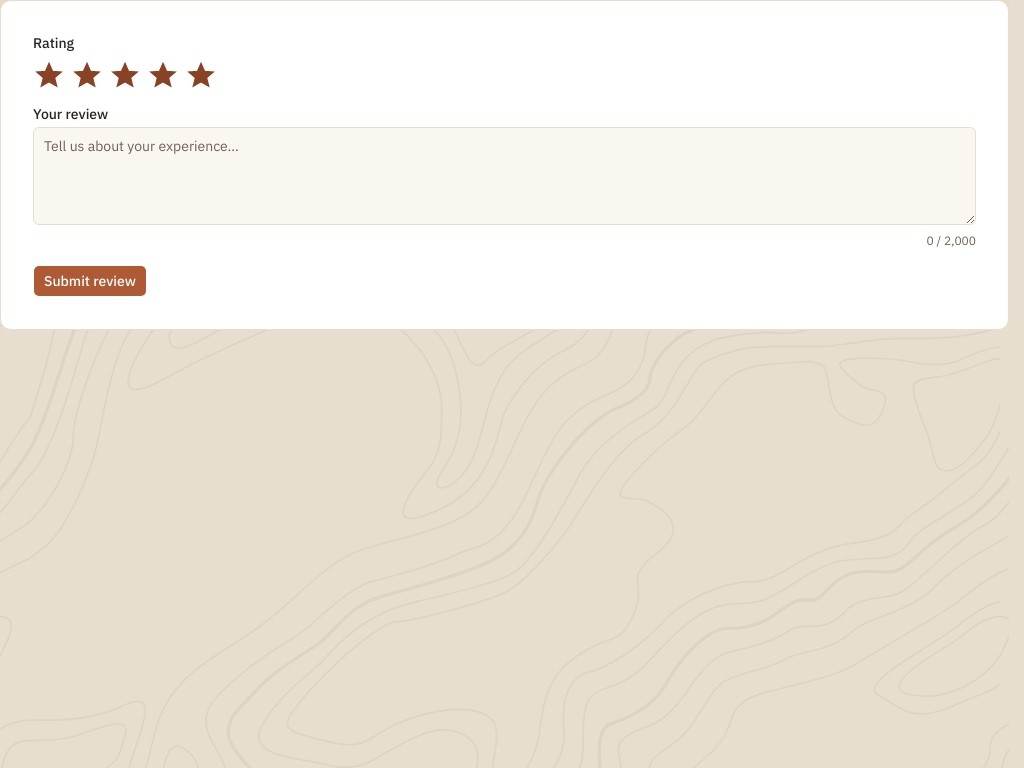
Test: ReviewForm › preserves body text and shows the error on server failure
The width and height of the screenshot is (1024, 768).
In the text box labelled "Your review": (504, 176) 33,127 -> 976,225, type "Great walk today"
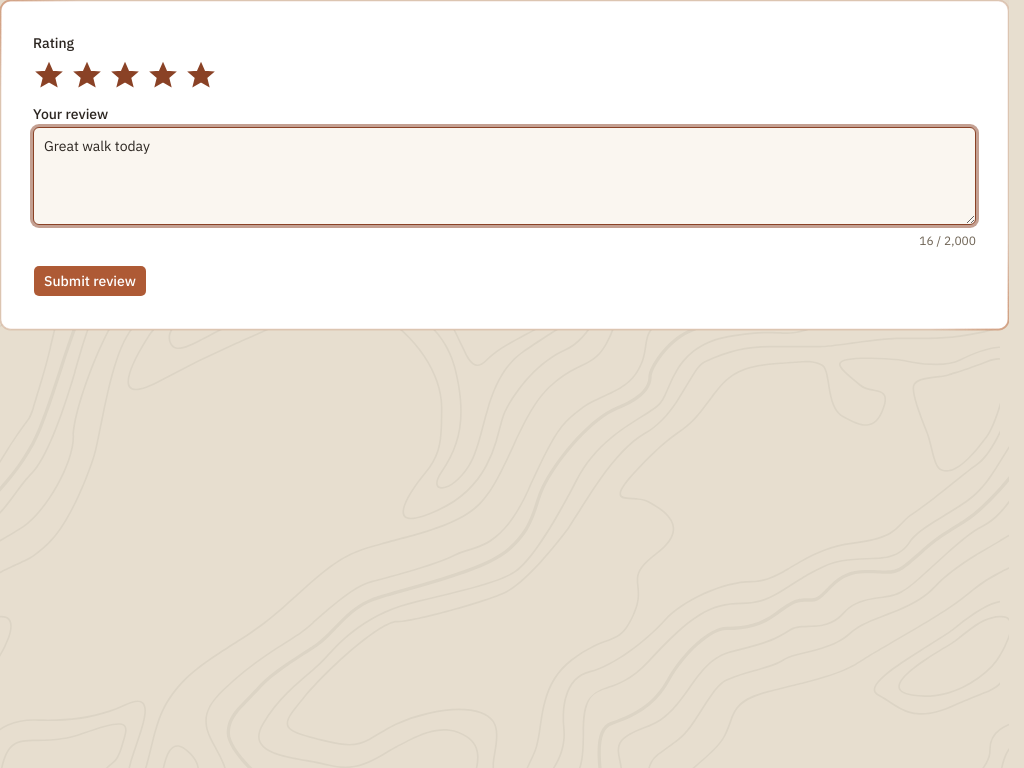
Click the button "Submit review": (90, 281) 33,265 -> 147,297
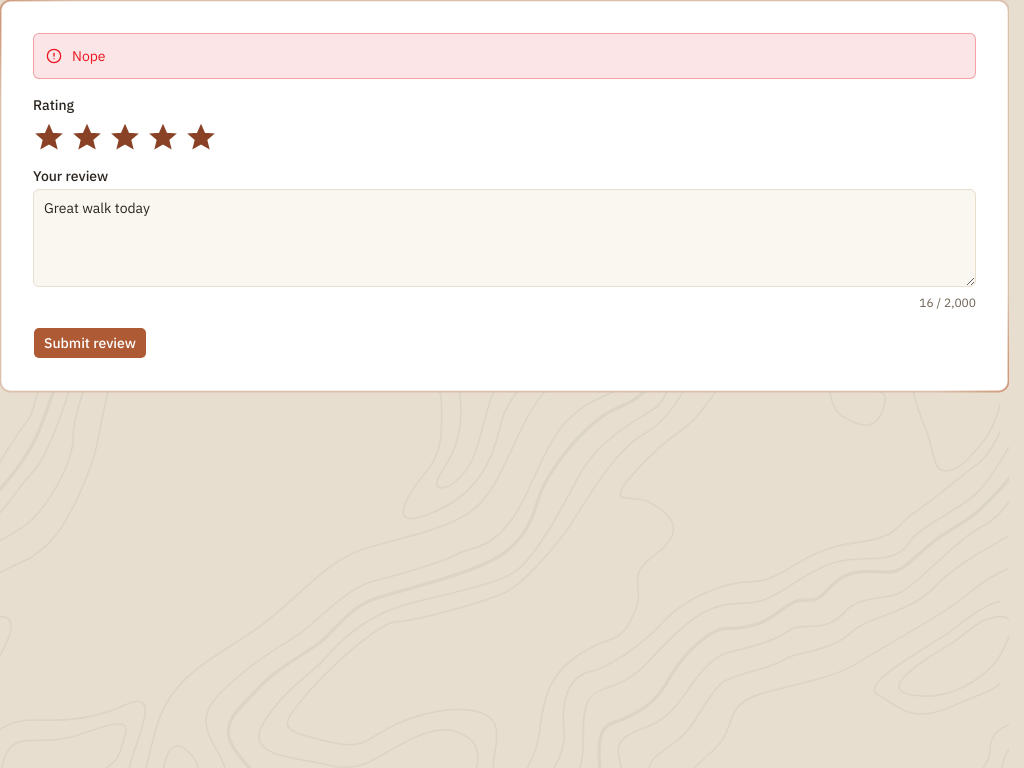
Now the text "Nope" is shown, box 72,46 -> 106,66
